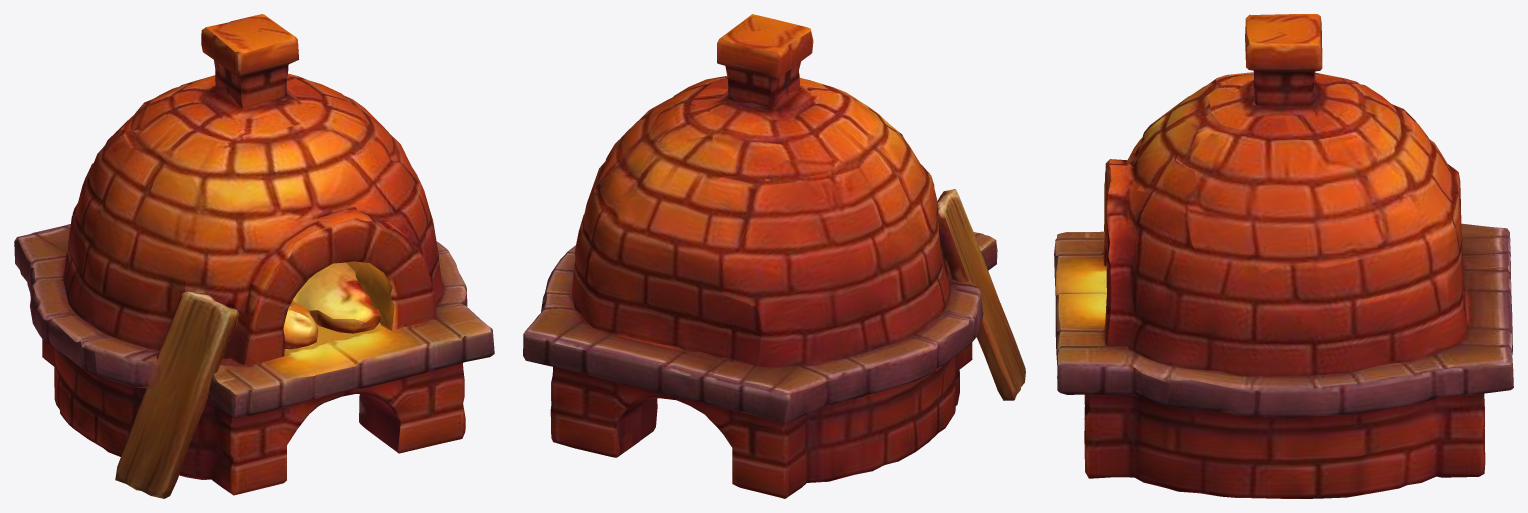
The model's file is bakery_oven.glb.
3 renders of one model, left to right at view 1: azimuth 30°, elevation 25°; view 2: azimuth 150°, elevation 25°; view 3: azimuth 270°, elevation 25°, orthographic. The views are drawn at different scales.
Visible parts, largest first — view 1: bakery_oven2; view 2: bakery_oven2; view 3: bakery_oven2.
Part boxes in pixels (<box>): bakery_oven2: <box>14,14,494,498</box>; bakery_oven2: <box>523,14,1025,498</box>; bakery_oven2: <box>1054,14,1513,498</box>.
Size of the model in its own units: 0.9989 by 0.9341 by 1.
1 material, 1 textured.
